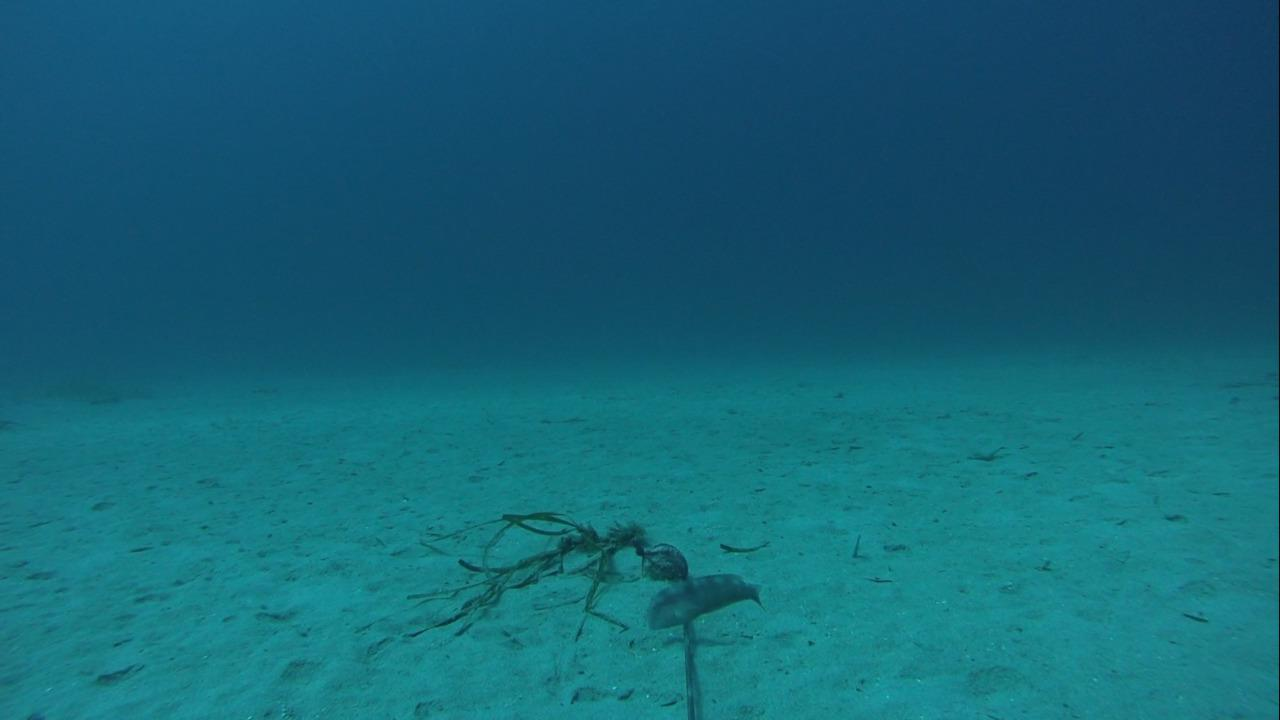raor: (646, 571, 765, 629)
